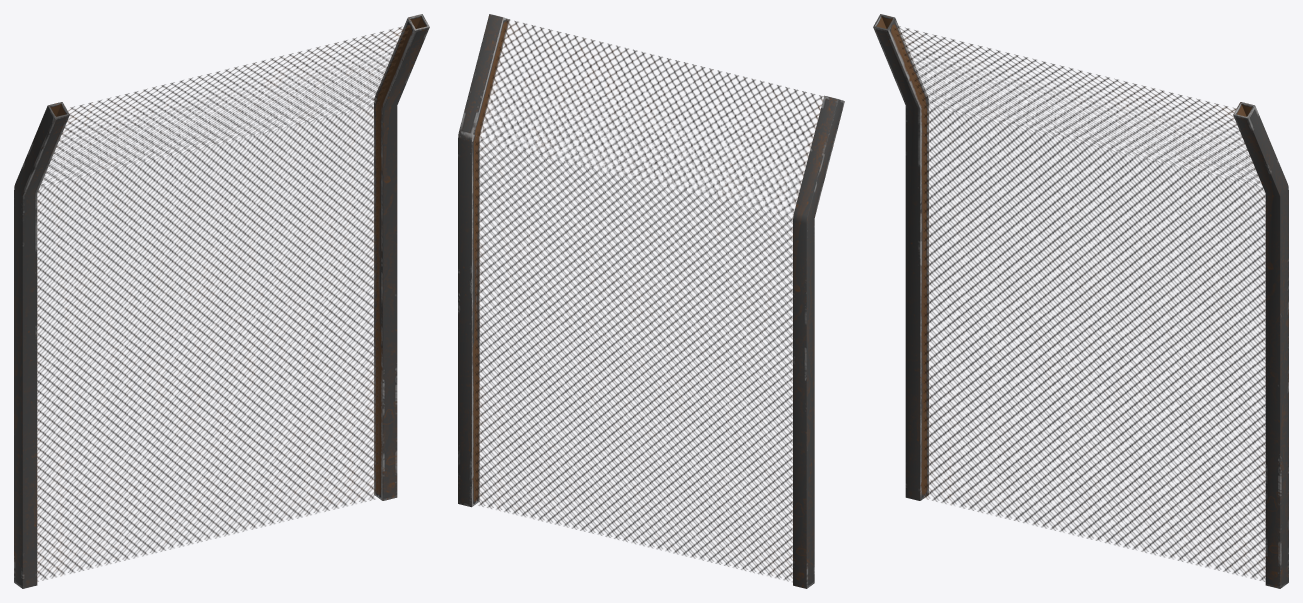
The model's file is fence_single_model_from_asset_pack.glb.
3 renders of one model, left to right at view 1: azimuth 30°, elevation 25°; view 2: azimuth 150°, elevation 25°; view 3: azimuth 330°, elevation 25°, orthographic. The views are drawn at different scales.
Parts seen in each view (by area): view 1: barrier_fance; view 2: barrier_fance; view 3: barrier_fance.
Boxes of the visible parts, x1,y1,x2,y2 form: barrier_fance: (14, 14, 429, 588); barrier_fance: (458, 14, 844, 588); barrier_fance: (873, 14, 1288, 588).
Bounding box in the file's own units: 5 × 6.4 × 0.9482.
Materials: 1 (1 with a texture image).
